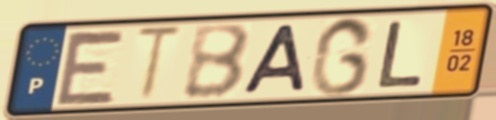A: (238, 22, 308, 97)
B: (181, 21, 254, 101)
E: (52, 28, 130, 108)
G: (307, 14, 377, 99)
L: (374, 19, 427, 90)
T: (132, 24, 187, 105)
